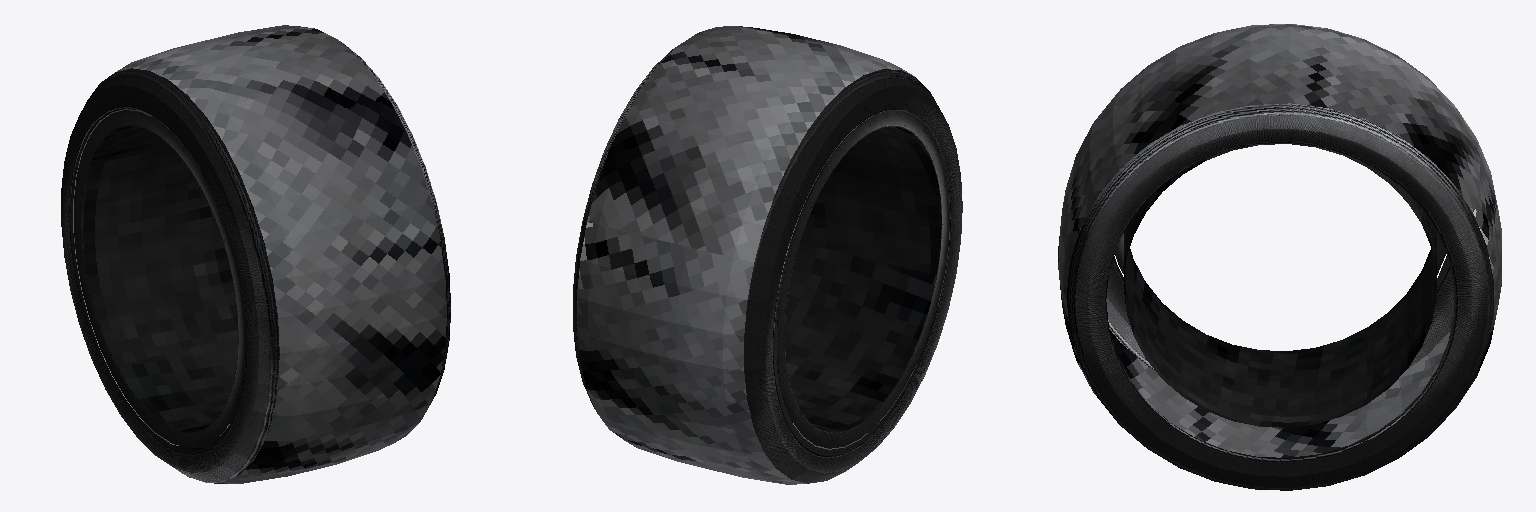
3 renders of one model, left to right at view 1: azimuth 30°, elevation 25°; view 2: azimuth 150°, elevation 25°; view 3: azimuth 270°, elevation 25°, orthographic.
Visible parts, largest first — view 1: Llanta3_Carro; view 2: Llanta3_Carro; view 3: Llanta3_Carro.
Boxes of the visible parts, x1=… form: Llanta3_Carro: x1=61, y1=25, x2=450, y2=483; Llanta3_Carro: x1=573, y1=26, x2=962, y2=484; Llanta3_Carro: x1=1058, y1=24, x2=1501, y2=490.
Size of the model in its own units: 11.16 by 22.38 by 22.36.
Materials: 1 (1 with a texture image).